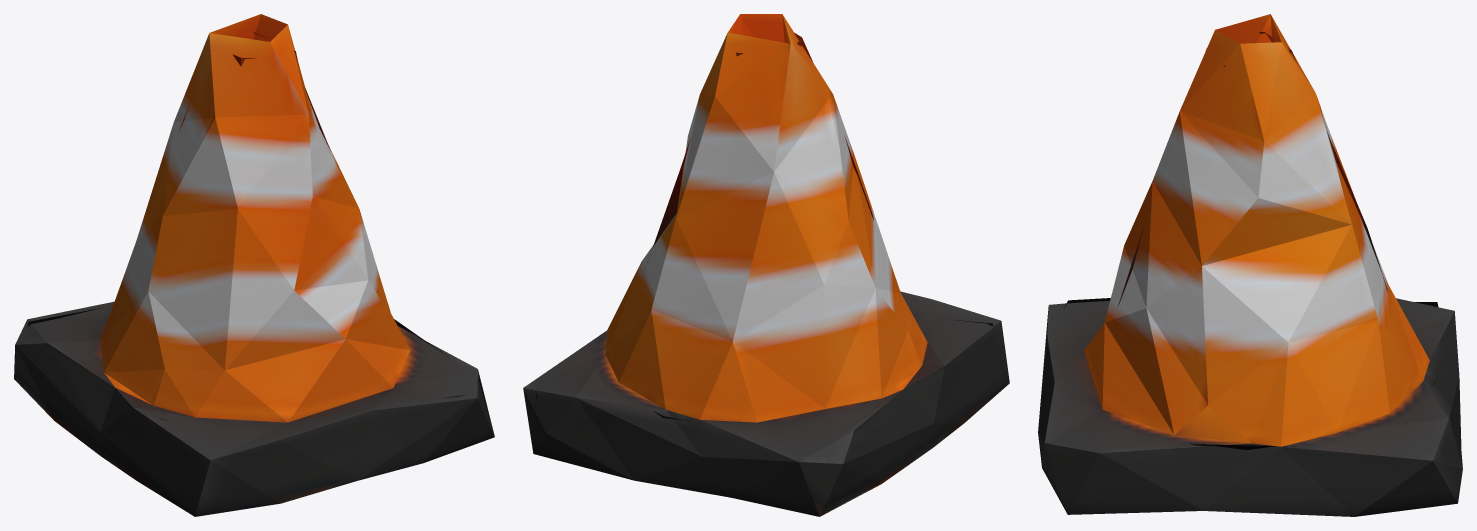
File: traffic_cone.glb
3 renders of one model, left to right at view 1: azimuth 30°, elevation 25°; view 2: azimuth 150°, elevation 25°; view 3: azimuth 270°, elevation 25°, orthographic. The views are drawn at different scales.
Parts seen in each view (by area): view 1: geometry_0; view 2: geometry_0; view 3: geometry_0.
Boxes of the visible parts, x1,y1,x2,y2 form: geometry_0: (14, 14, 494, 516); geometry_0: (523, 14, 1009, 516); geometry_0: (1038, 14, 1462, 516).
Size of the model in its own units: 0.8821 by 1.02 by 0.959.
1 material, 1 textured.
